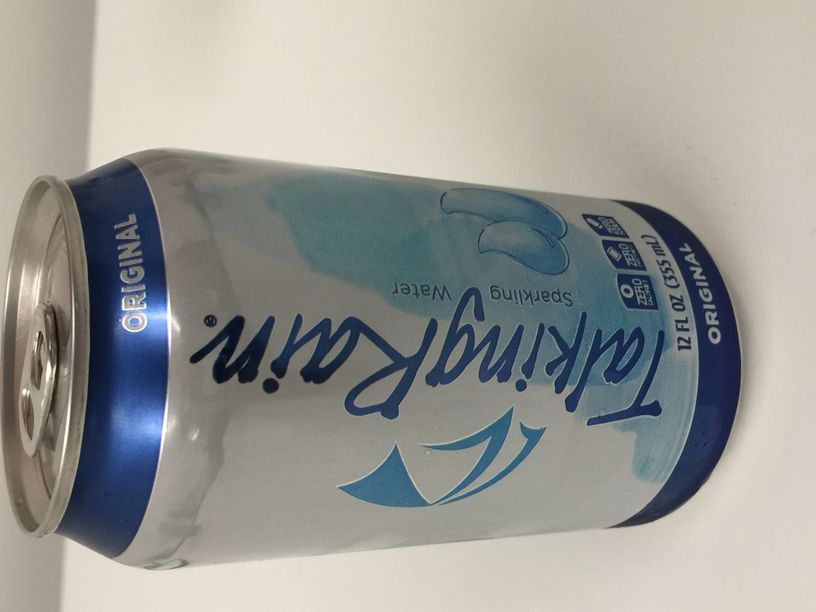competitor_02: (2, 148, 742, 566)
